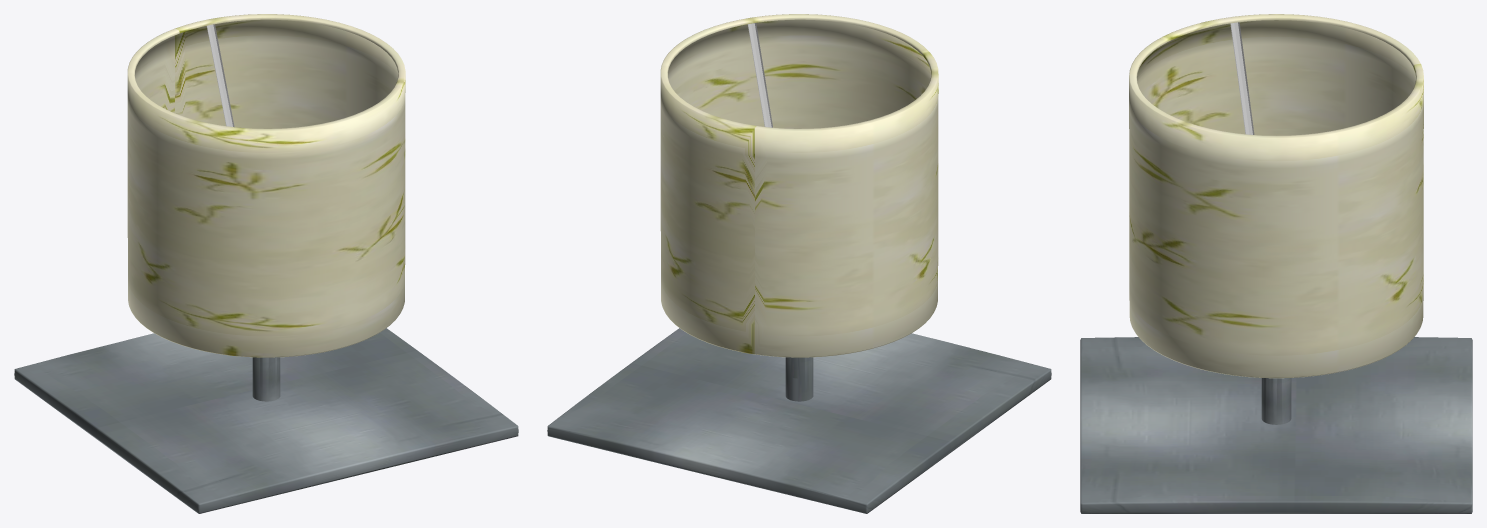
The model's file is sh-scopia-table-lamp.glb.
3 renders of one model, left to right at view 1: azimuth 30°, elevation 25°; view 2: azimuth 150°, elevation 25°; view 3: azimuth 270°, elevation 25°, orthographic. The views are drawn at different scales.
Parts seen in each view (by area): view 1: lampshade_off_pan.001_lampshade_off_pan.001_lampshade_off_pa, metal_brush_pulido2.j_metal_brush_pulido2.j_metal_brush_puli, whitesop_whitesop_whitesop; view 2: lampshade_off_pan.001_lampshade_off_pan.001_lampshade_off_pa, metal_brush_pulido2.j_metal_brush_pulido2.j_metal_brush_puli, whitesop_whitesop_whitesop; view 3: lampshade_off_pan.001_lampshade_off_pan.001_lampshade_off_pa, metal_brush_pulido2.j_metal_brush_pulido2.j_metal_brush_puli, whitesop_whitesop_whitesop.
Part boxes in pixels (<box>): lampshade_off_pan.001_lampshade_off_pan.001_lampshade_off_pa: <box>127,14,405,357</box>; metal_brush_pulido2.j_metal_brush_pulido2.j_metal_brush_puli: <box>14,328,518,513</box>; whitesop_whitesop_whitesop: <box>206,24,234,127</box>; lampshade_off_pan.001_lampshade_off_pan.001_lampshade_off_pa: <box>660,14,938,357</box>; metal_brush_pulido2.j_metal_brush_pulido2.j_metal_brush_puli: <box>547,328,1051,513</box>; whitesop_whitesop_whitesop: <box>747,23,772,127</box>; lampshade_off_pan.001_lampshade_off_pan.001_lampshade_off_pa: <box>1129,14,1423,378</box>; metal_brush_pulido2.j_metal_brush_pulido2.j_metal_brush_puli: <box>1080,337,1472,513</box>; whitesop_whitesop_whitesop: <box>1230,22,1254,134</box>.
Bounding box in the file's own units: 1 × 1 × 1.
Materials: 5 (2 with a texture image).
